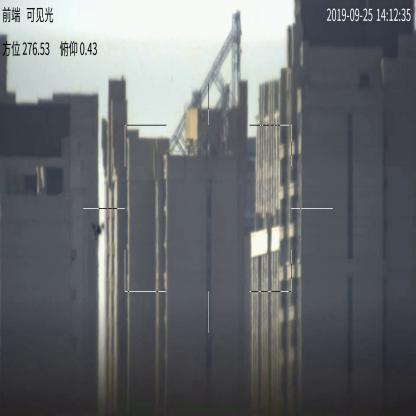uav: (91, 219, 106, 244)
